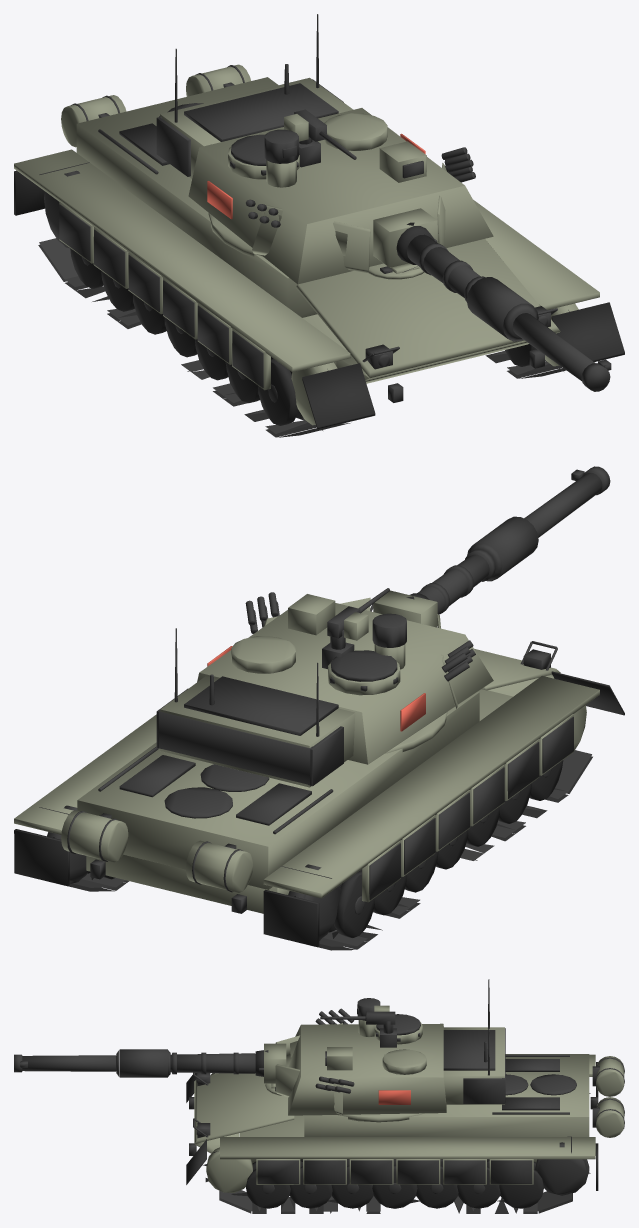
File: tank.glb
3 views of the same model, one above another, from view 1: azimuth 30°, elevation 25°; view 2: azimuth 150°, elevation 25°; view 3: azimuth 270°, elevation 25° (orthographic). The views are drawn at different scales.
Parts seen in each view (by area): view 1: body, turret, gun, track_r, track_l; view 2: body, turret, gun, track_r, track_l; view 3: body, turret, gun, track_l.
Part boxes in pixels (<box>): body: <box>14,64,624,429</box>; turret: <box>156,14,493,284</box>; gun: <box>373,208,611,391</box>; track_r: <box>38,162,350,437</box>; track_l: <box>485,310,569,378</box>; body: <box>14,604,624,947</box>; turret: <box>156,588,493,787</box>; gun: <box>373,466,610,627</box>; track_r: <box>281,750,592,950</box>; track_l: <box>39,807,128,891</box>; body: <box>186,1054,624,1208</box>; turret: <box>275,979,505,1115</box>; gun: <box>14,1043,286,1083</box>; track_l: <box>202,1136,590,1213</box>.
Bounding box in the file's own units: 3.74 × 2.78 × 9.43.
